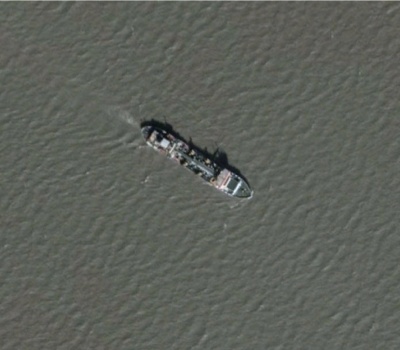boat: (139, 122, 254, 202)
